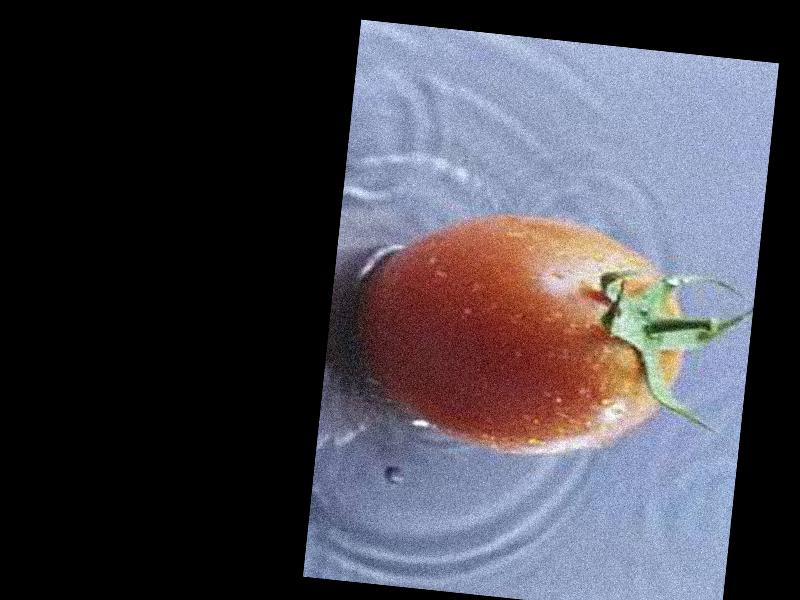Tomato: (346, 200, 693, 466)
